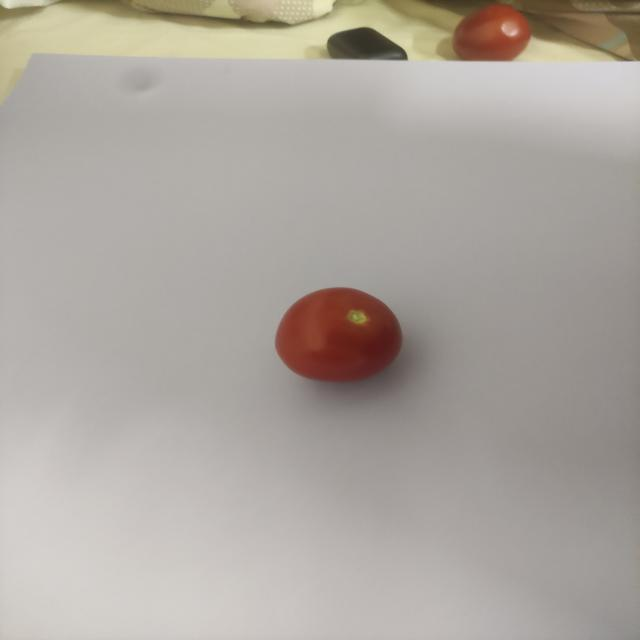kirmizi: (260, 281, 420, 385)
